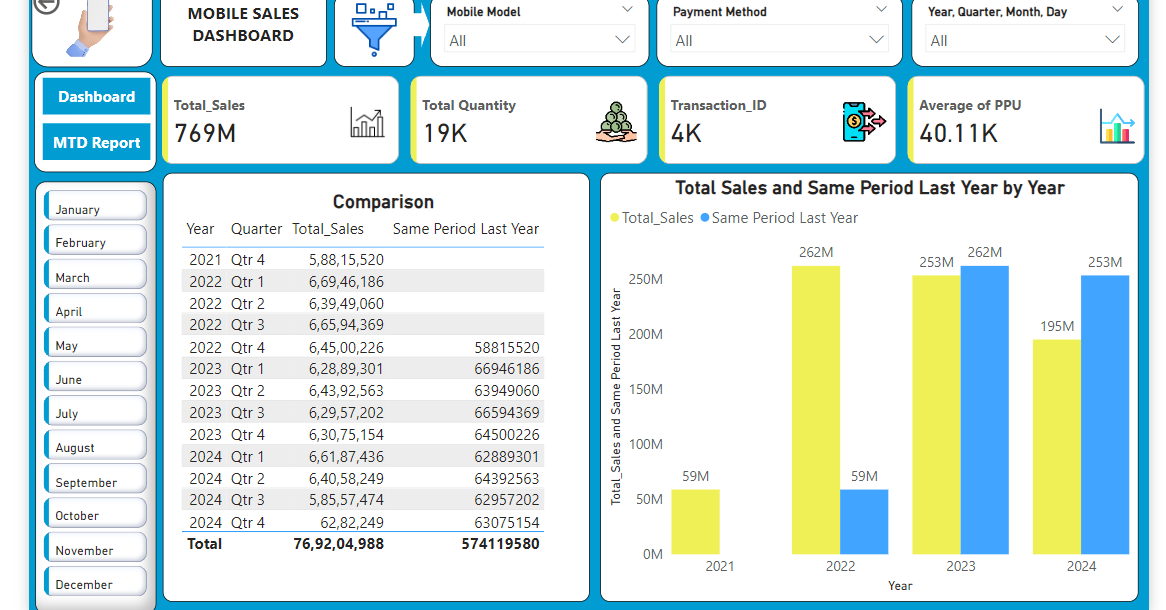

The page's visual inventory and layout, read from the dashboard file:
{"tool":"powerbi","page":{"name":"Same Period Last Year","canvas":[1280,720],"ordinal":2},"visuals":[{"type":"image","box":[3.3,0,138.3,95],"z":0},{"type":"cardVisual","fields":{"Data":["CALEDNAR.Total_Sales","Mobile_Sales_Data.Total Quantity","CALEDNAR.Total Transaction_ID","Avg(Mobile_Sales_Data.Price Per Unit)"]},"box":[146.7,100,1133.3,111.7],"z":1000},{"type":"slicer","fields":{"Values":["Mobile_Sales_Data.Mobile Model"]},"box":[458.3,11.7,250,83.3],"z":2000},{"type":"slicer","fields":{"Values":["Mobile_Sales_Data.Payment Method"]},"box":[716.7,11.7,281.7,83.3],"z":3000},{"type":"slicer","fields":{"Values":["CALEDNAR.Date.Variation.Date Hierarchy.Year","CALEDNAR.Date.Variation.Date Hierarchy.Quarter","CALEDNAR.Date.Variation.Date Hierarchy.Month","CALEDNAR.Date.Variation.Date Hierarchy.Day"]},"box":[1008.3,11.7,260,83.3],"z":4000},{"type":"image","box":[348.3,11.7,91.7,83.3],"z":5000},{"type":"shape","box":[439.1,20.5,19.3,53.1],"z":6000},{"type":"textbox","box":[150,10,190,85],"z":7000},{"type":"textbox","box":[5,100,140,115],"z":8000},{"type":"tableEx","title":"Comparison","fields":{"Values":["CALEDNAR.Date.Variation.Date Hierarchy.Year","CALEDNAR.Date.Variation.Date Hierarchy.Quarter","CALEDNAR.Total_Sales","Mobile_Sales_Data.Same Period Last Year"]},"box":[153,215,488.3,490],"z":9000},{"type":"advancedSlicerVisual","fields":{"Values":["CALEDNAR.Date.Variation.Date Hierarchy.Month"]},"box":[7.1,225.7,138.6,494.3],"z":10000},{"type":"actionButton","box":[0,0,100,40],"z":11000},{"type":"clusteredColumnChart","title":"Total Sales and Same Period Last Year by Year","fields":{"Category":["CALEDNAR.Date.Variation.Date Hierarchy.Year","CALEDNAR.Date.Variation.Date Hierarchy.Quarter"],"Y":["CALEDNAR.Total_Sales","Mobile_Sales_Data.Same Period Last Year"]},"box":[653.3,215,615,490],"z":12000},{"type":"pageNavigator","box":[15,106.7,123.3,95],"z":13000}]}

Visuals, with their boxes on the page's 1280x720 design canvas (x1, y1, x2, y2). These are canvas units, not pixel positions in the 1166x610 screenshot, which may show the page scaled, cropped or inside an application window:
image: detection(3, 0, 142, 95)
cardVisual - CALEDNAR.Total_Sales x Mobile_Sales_Data.Total Quantity: detection(147, 100, 1280, 212)
slicer - Mobile_Sales_Data.Mobile Model: detection(458, 12, 708, 95)
slicer - Mobile_Sales_Data.Payment Method: detection(717, 12, 998, 95)
slicer - CALEDNAR.Date.Variation.Date Hierarchy.Year x CALEDNAR.Date.Variation.Date Hierarchy.Quarter: detection(1008, 12, 1268, 95)
image: detection(348, 12, 440, 95)
shape: detection(439, 20, 458, 74)
textbox: detection(150, 10, 340, 95)
textbox: detection(5, 100, 145, 215)
"Comparison" tableEx: detection(153, 215, 641, 705)
advancedSlicerVisual - CALEDNAR.Date.Variation.Date Hierarchy.Month: detection(7, 226, 146, 720)
actionButton: detection(0, 0, 100, 40)
"Total Sales and Same Period Last Year by Year" clusteredColumnChart: detection(653, 215, 1268, 705)
pageNavigator: detection(15, 107, 138, 202)
